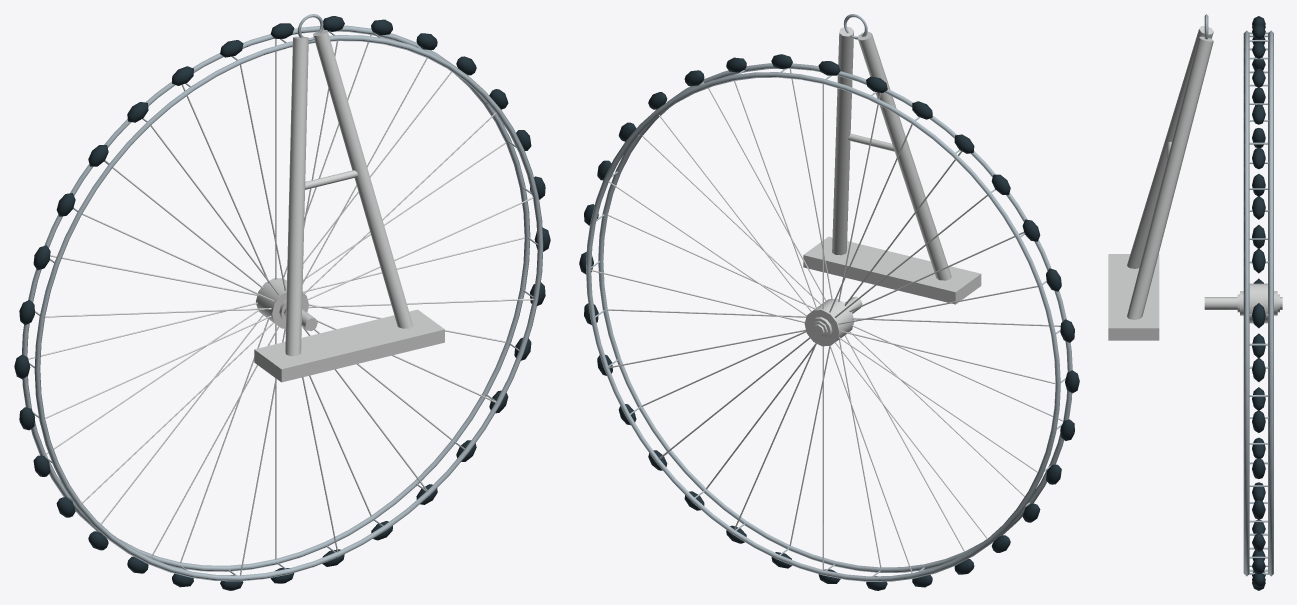
Rendered from london-eye.lod0.glb.
3 renders of one model, left to right at view 1: azimuth 30°, elevation 25°; view 2: azimuth 150°, elevation 25°; view 3: azimuth 270°, elevation 25°, orthographic. The views are drawn at different scales.
Visible parts, largest first — view 1: eye-rim, eye-spokes, eye-frame-struts, eye-pods, eye-frame-footing; view 2: eye-rim, eye-spokes, eye-frame-struts, eye-pods, eye-frame-footing; view 3: eye-rim, eye-frame-struts, eye-pods, eye-frame-footing, eye-spokes.
Part boxes in pixels (x1,y1,x2,y2): eye-rim: (22,25,543,581); eye-spokes: (28,34,533,575); eye-frame-struts: (285,30,413,356); eye-pods: (14,16,550,590); eye-frame-footing: (254,309,444,382); eye-rim: (586,63,1072,581); eye-spokes: (590,68,1063,573); eye-frame-struts: (832,27,951,280); eye-pods: (579,54,1079,590); eye-frame-footing: (803,236,981,304); eye-rim: (1243,30,1273,576); eye-frame-struts: (1127,26,1213,319); eye-pods: (1252,16,1265,590); eye-frame-footing: (1108,254,1159,340); eye-spokes: (1204,283,1282,323).
Size of the model in its own units: 34.06 by 35.85 by 10.3.
